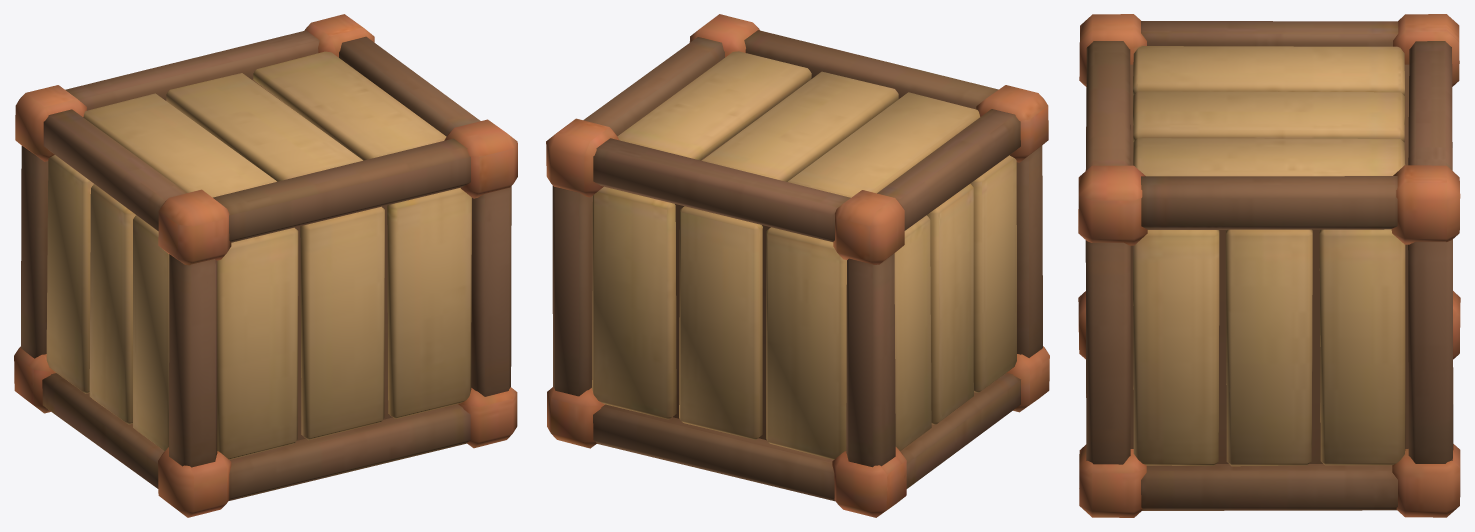
Rendered from crate.glb.
3 renders of one model, left to right at view 1: azimuth 30°, elevation 25°; view 2: azimuth 150°, elevation 25°; view 3: azimuth 270°, elevation 25°, orthographic. The views are drawn at different scales.
Parts seen in each view (by area): view 1: crate; view 2: crate; view 3: crate.
Part boxes in pixels (box(x1,y1,x2,y2)): crate: box(14, 14, 517, 517); crate: box(546, 14, 1049, 517); crate: box(1078, 14, 1460, 517).
Size of the model in its own units: 0.7266 by 0.626 by 0.6462.
3 materials, 3 textured.
